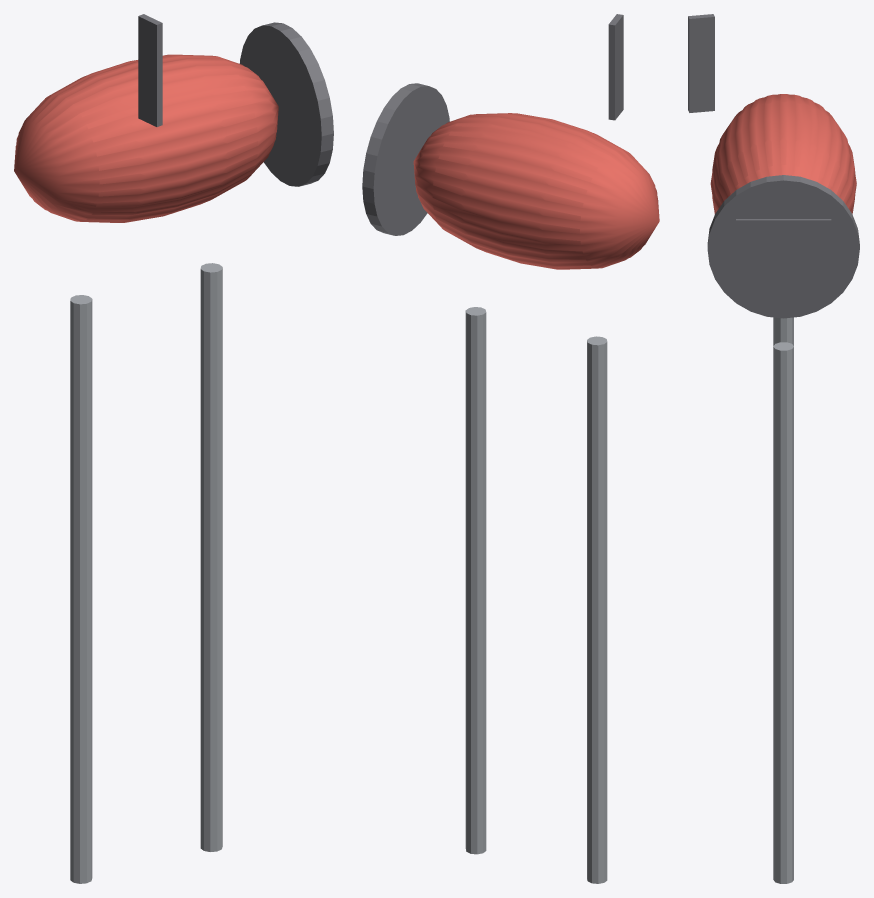
The model's file is mailbox.glb.
3 views of the same model, side by side, from view 1: azimuth 30°, elevation 25°; view 2: azimuth 150°, elevation 25°; view 3: azimuth 270°, elevation 25° (orthographic). The views are drawn at different scales.
Parts seen in each view (by area): view 1: Mailbox_Body, Mailbox_Leg_0.08, Mailbox_Leg_-0.08, Mailbox_DoorFace, Mailbox_Flag; view 2: Mailbox_Body, Mailbox_Leg_0.08, Mailbox_Leg_-0.08, Mailbox_DoorFace, Mailbox_Flag; view 3: Mailbox_DoorFace, Mailbox_Leg_0.08, Mailbox_Body, Mailbox_Flag, Mailbox_Slot, Mailbox_Leg_-0.08.
Part boxes in pixels (box(x1,y1,x2,y2)): Mailbox_Body: box(14, 54, 278, 222); Mailbox_Leg_0.08: box(200, 263, 222, 851); Mailbox_Leg_-0.08: box(70, 295, 92, 883); Mailbox_DoorFace: box(239, 22, 333, 186); Mailbox_Flag: box(138, 14, 162, 126); Mailbox_Body: box(413, 113, 659, 269); Mailbox_Leg_0.08: box(465, 307, 486, 854); Mailbox_Leg_-0.08: box(587, 336, 607, 883); Mailbox_DoorFace: box(362, 83, 449, 235); Mailbox_Flag: box(608, 14, 623, 120); Mailbox_DoorFace: box(707, 175, 859, 318); Mailbox_Leg_0.08: box(773, 342, 793, 883); Mailbox_Body: box(710, 94, 856, 213); Mailbox_Flag: box(688, 14, 714, 112); Mailbox_Slot: box(736, 219, 831, 234); Mailbox_Leg_-0.08: box(773, 317, 793, 345).
Size of the model in its own units: 0.3456 by 1.04 by 0.1985.
